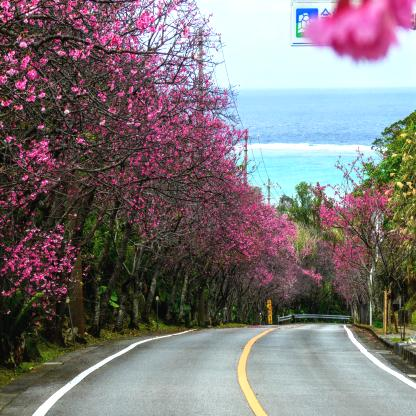KanhiSakura: (0, 1, 116, 333), (107, 2, 183, 328), (154, 3, 220, 328), (356, 144, 416, 324), (203, 114, 250, 325), (310, 180, 367, 325), (336, 157, 382, 325), (232, 168, 278, 322), (266, 209, 300, 316), (330, 266, 356, 322)
